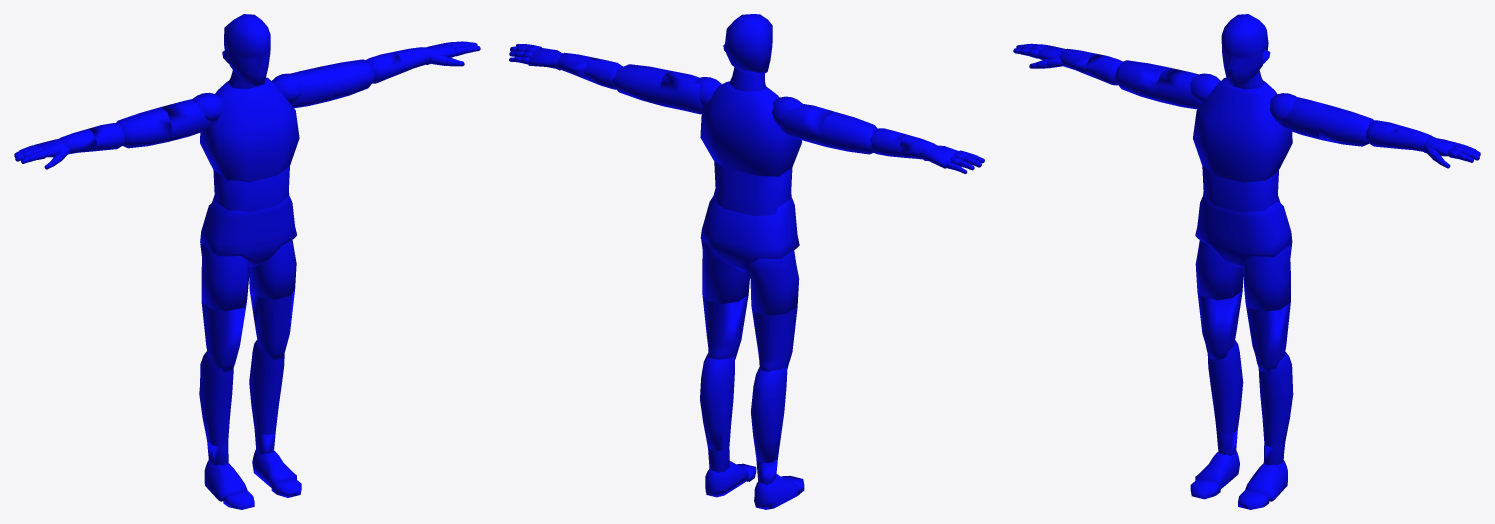
The model's file is wim_avatar.dae.
The picture shows the model from 3 angles, left to right: view 1: azimuth 30°, elevation 25°; view 2: azimuth 150°, elevation 25°; view 3: azimuth 330°, elevation 25°; orthographic projection.
Parts seen in each view (by area): view 1: nodeChest, nodeHips, nodeHead, nodeRightHip, nodeRightKnee, nodeLeftKnee, nodeWaist, nodeLeftUpLegRoll, nodeRightUpLegRoll, nodeLeftHip, nodeRightArmRoll, nodeLeftArmRoll (+10 smaller); view 2: nodeChest, nodeHips, nodeWaist, nodeRightKnee, nodeLeftKnee, nodeRightHip, nodeHead, nodeLeftUpLegRoll, nodeRightUpLegRoll, nodeLeftHip, nodeRightArmRoll, nodeLeftArmRoll (+11 smaller); view 3: nodeChest, nodeHips, nodeHead, nodeLeftHip, nodeLeftKnee, nodeRightKnee, nodeWaist, nodeRightUpLegRoll, nodeLeftUpLegRoll, nodeRightHip, nodeLeftArmRoll, nodeRightArmRoll (+10 smaller).
Part boxes in pixels (x1=…): nodeChest: x1=200, y1=77, x2=299, y2=182; nodeHips: x1=200, y1=196, x2=296, y2=267; nodeHead: x1=222, y1=14, x2=270, y2=85; nodeRightHip: x1=200, y1=243, x2=249, y2=310; nodeRightKnee: x1=199, y1=351, x2=233, y2=446; nodeLeftKnee: x1=249, y1=340, x2=284, y2=435; nodeWaist: x1=212, y1=165, x2=289, y2=212; nodeLeftUpLegRoll: x1=249, y1=290, x2=294, y2=360; nodeRightUpLegRoll: x1=201, y1=302, x2=246, y2=372; nodeLeftHip: x1=249, y1=240, x2=296, y2=299; nodeRightArmRoll: x1=116, y1=107, x2=171, y2=148; nodeLeftArmRoll: x1=320, y1=59, x2=374, y2=101; nodeChest: x1=700, y1=81, x2=801, y2=176; nodeHips: x1=700, y1=197, x2=799, y2=271; nodeWaist: x1=712, y1=161, x2=792, y2=215; nodeRightKnee: x1=751, y1=367, x2=787, y2=463; nodeLeftKnee: x1=700, y1=353, x2=734, y2=451; nodeRightHip: x1=744, y1=250, x2=799, y2=315; nodeHead: x1=723, y1=14, x2=772, y2=73; nodeLeftUpLegRoll: x1=702, y1=293, x2=748, y2=359; nodeRightUpLegRoll: x1=751, y1=306, x2=797, y2=371; nodeLeftHip: x1=701, y1=239, x2=749, y2=304; nodeRightArmRoll: x1=820, y1=112, x2=877, y2=154; nodeLeftArmRoll: x1=612, y1=64, x2=669, y2=106; nodeChest: x1=1193, y1=77, x2=1292, y2=182; nodeHips: x1=1195, y1=196, x2=1292, y2=267; nodeHead: x1=1221, y1=14, x2=1270, y2=86; nodeLeftHip: x1=1243, y1=243, x2=1291, y2=311; nodeLeftKnee: x1=1258, y1=352, x2=1293, y2=447; nodeRightKnee: x1=1207, y1=340, x2=1243, y2=435; nodeWaist: x1=1202, y1=165, x2=1280, y2=212; nodeRightUpLegRoll: x1=1197, y1=290, x2=1242, y2=360; nodeLeftUpLegRoll: x1=1245, y1=301, x2=1290, y2=372; nodeRightHip: x1=1195, y1=240, x2=1243, y2=300; nodeLeftArmRoll: x1=1319, y1=105, x2=1373, y2=146; nodeRightArmRoll: x1=1115, y1=60, x2=1168, y2=101.
Bounding box in the file's own units: 1.83 × 1.78 × 0.2712.
